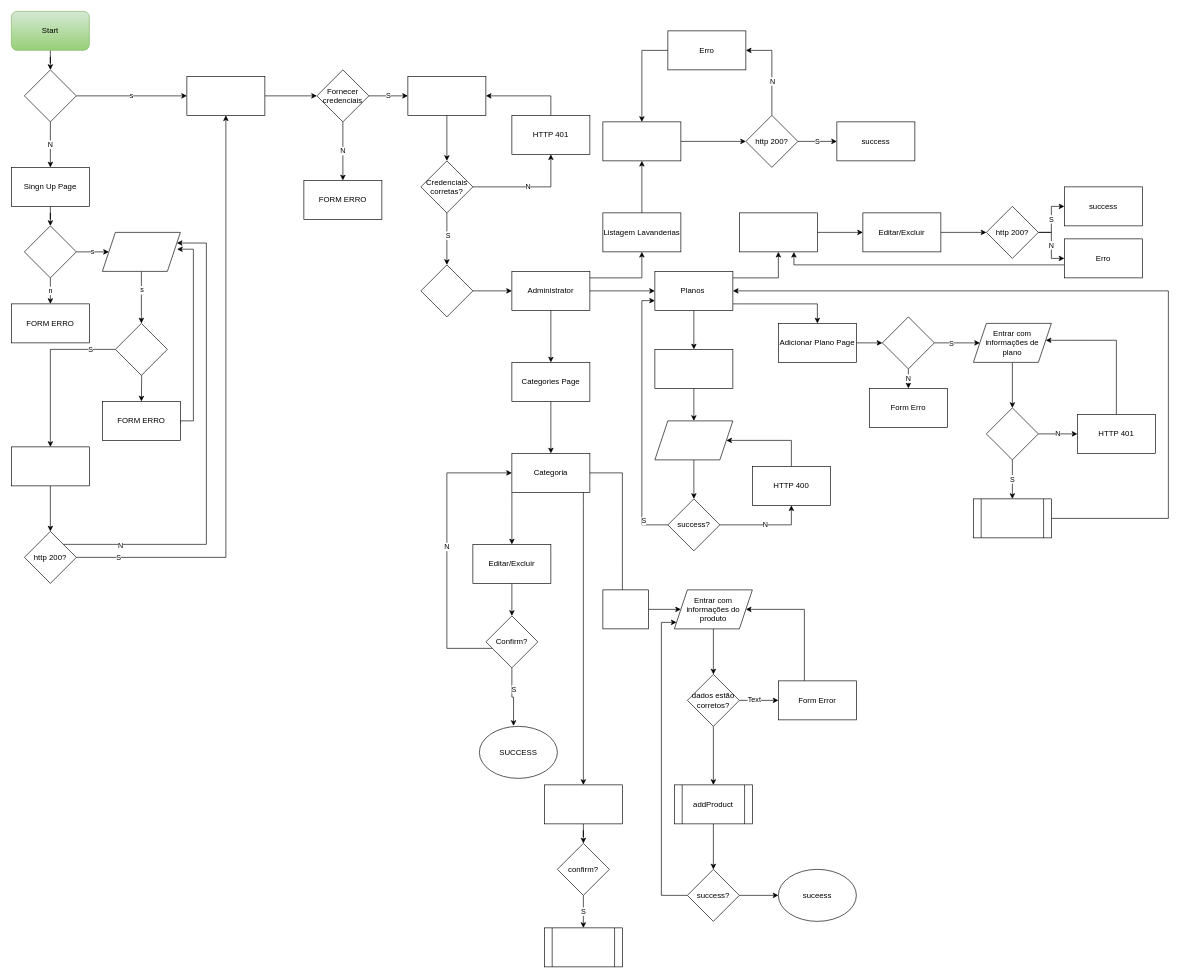
The diagram is 1185 pixels wide and 978 high, and some of its shapes have lost their labels. The centre of each missing label's shape, as x and y in pixels:
Add Product: the point at 625,609
AddAccount: the point at 50,466
addPlan: the point at 1012,518
Bloquear/ Desbloquear: the point at 641,141
dados corretos?: the point at 141,349
deletProduc: the point at 583,947
Entrada de valores: the point at 693,440
Entrar com credenciais: the point at 141,251
Escolha de perfil: the point at 446,290
fornecer credenciais ?: the point at 50,251
Fornecer infos?: the point at 908,342
Gerenciamento de tarifas Page: the point at 693,368
Informações corretas?: the point at 1012,433
Já cadastrado?: the point at 50,95
Plano: the point at 778,232
Remove Product: the point at 583,804
Sign In Page: the point at 225,95
Submeter: the point at 446,95
